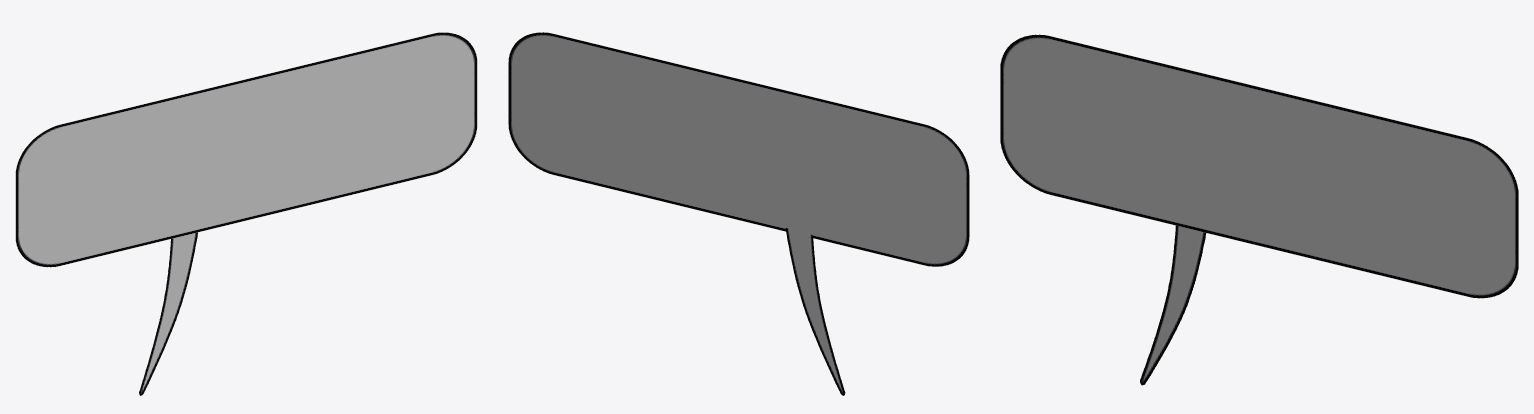
Rendered from komiks_cloud.FBX.
The picture shows the model from 3 angles, left to right: view 1: azimuth 30°, elevation 25°; view 2: azimuth 150°, elevation 25°; view 3: azimuth 330°, elevation 25°; orthographic projection. The views are drawn at different scales.
Parts seen in each view (by area): view 1: Komiks_cloud; view 2: Komiks_cloud; view 3: Komiks_cloud.
Boxes of the visible parts, x1,y1,x2,y2 form: Komiks_cloud: [15, 32, 477, 395]; Komiks_cloud: [508, 32, 969, 395]; Komiks_cloud: [1000, 34, 1518, 385].
Bounding box in the file's own units: 333 × 212 × 0.588.
